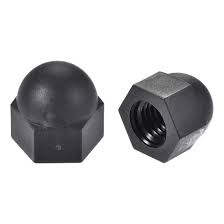Thread: (124, 96, 180, 151)
